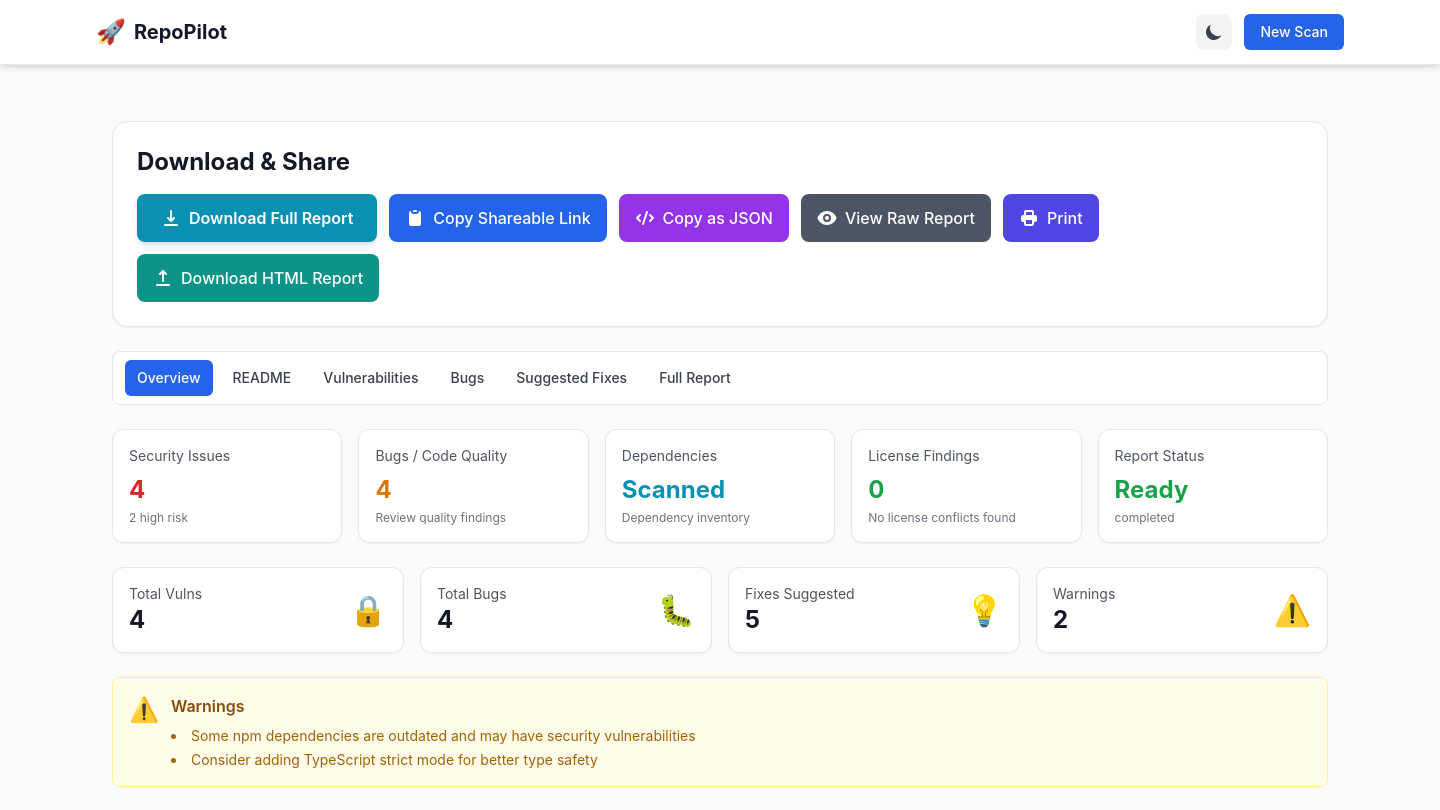
Scenario: Results page › renders the completed scan dashboard
Check: the text "Total Vulns" is shown, box [129,584,202,604]
Step 1. Click the tab "README" → [262, 378], box [220,360,303,396]
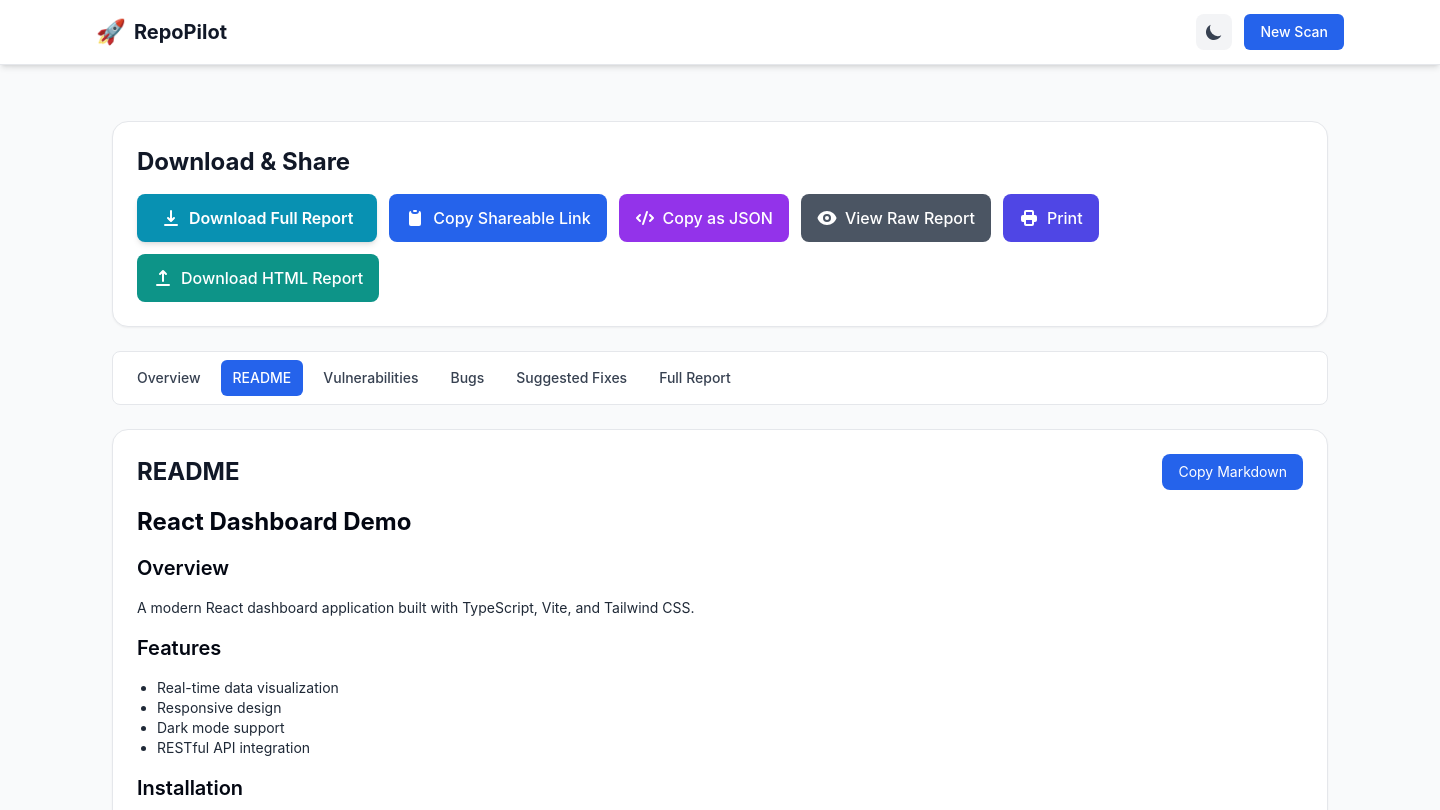
Check: the heading "README" is shown, box [137,456,240,488]
Step 2. Click the tab "Vulnerabilities" → [371, 378], box [311,360,430,396]
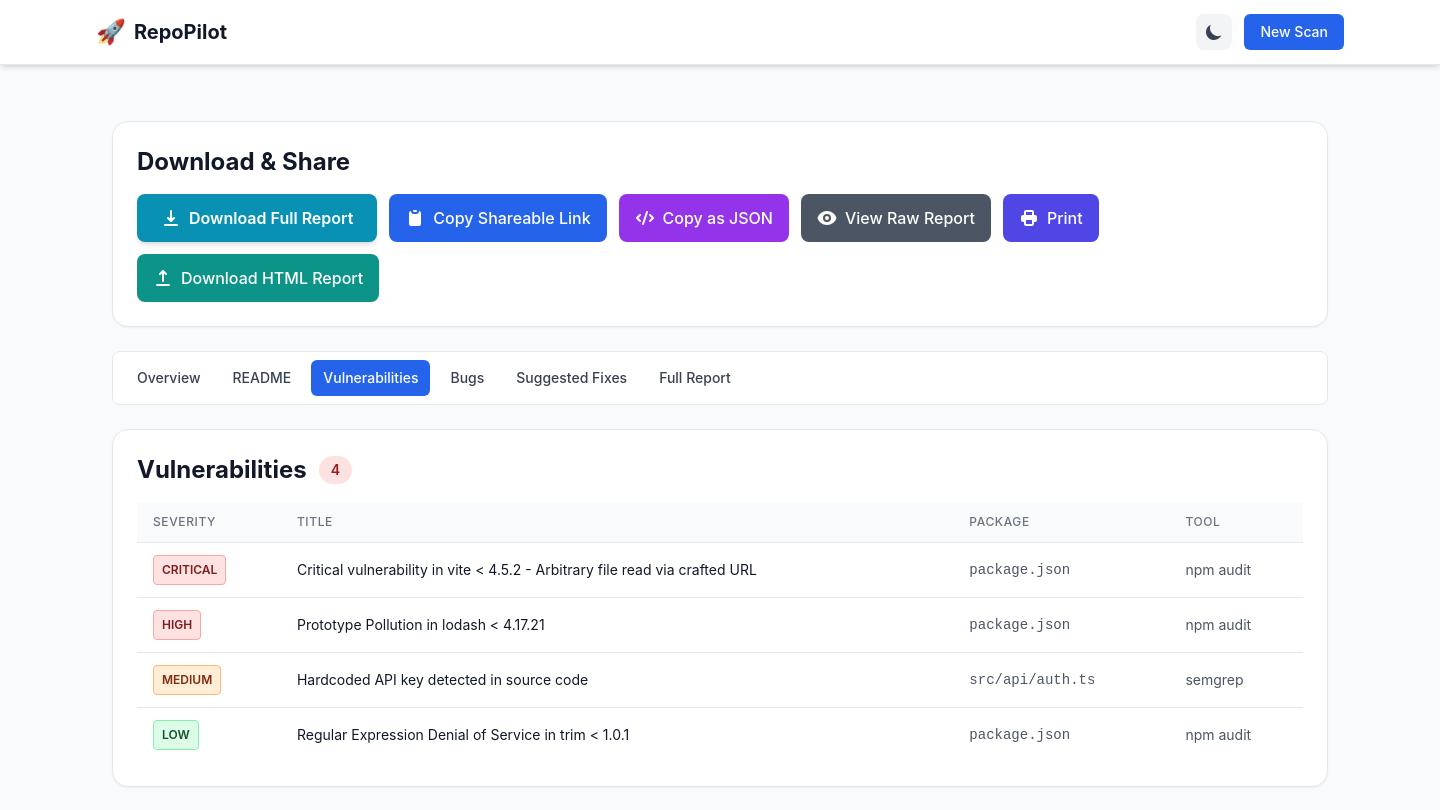
Check: the heading "Vulnerabilities" is shown, box [137,454,307,486]
Step 3. Click the tab "Bugs" → [467, 378], box [438,360,496,396]
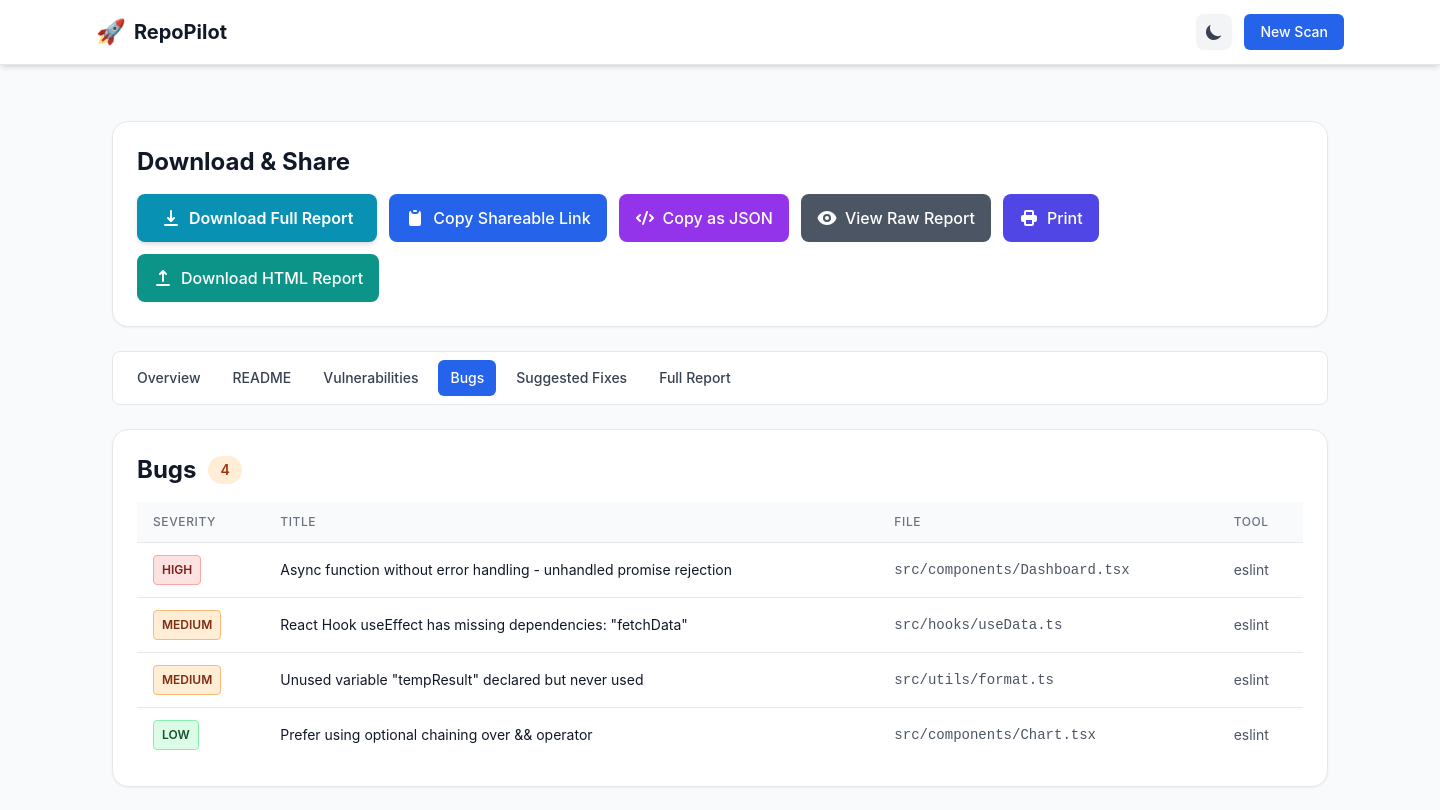
Check: the heading "Bugs" is shown, box [137,454,196,486]
Step 4. Click the tab "Suggested Fixes" → [572, 378], box [504,360,639,396]
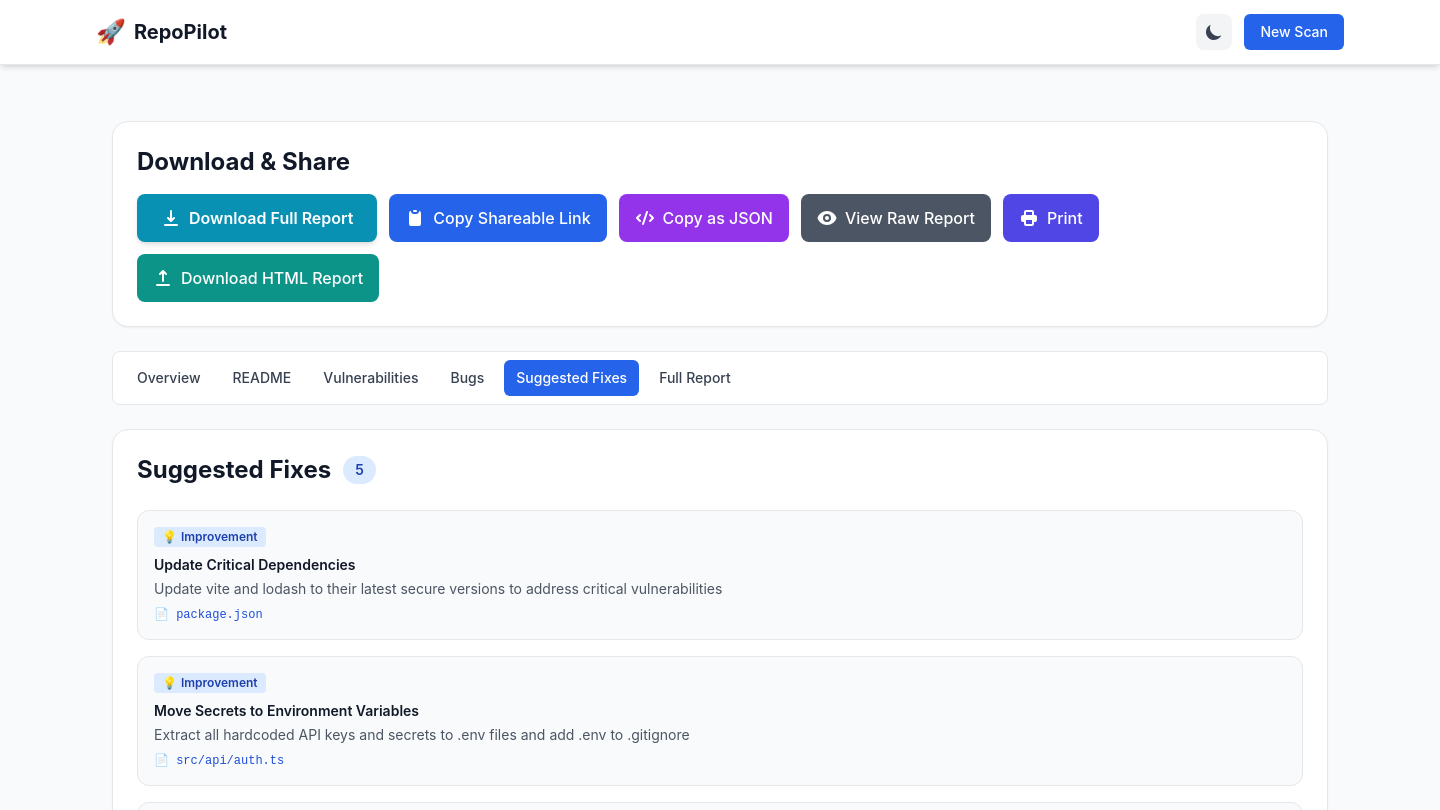
Check: the heading "Suggested Fixes" is shown, box [137,454,331,486]
Step 5. Click the tab "Full Report" → [695, 378], box [647,360,743,396]
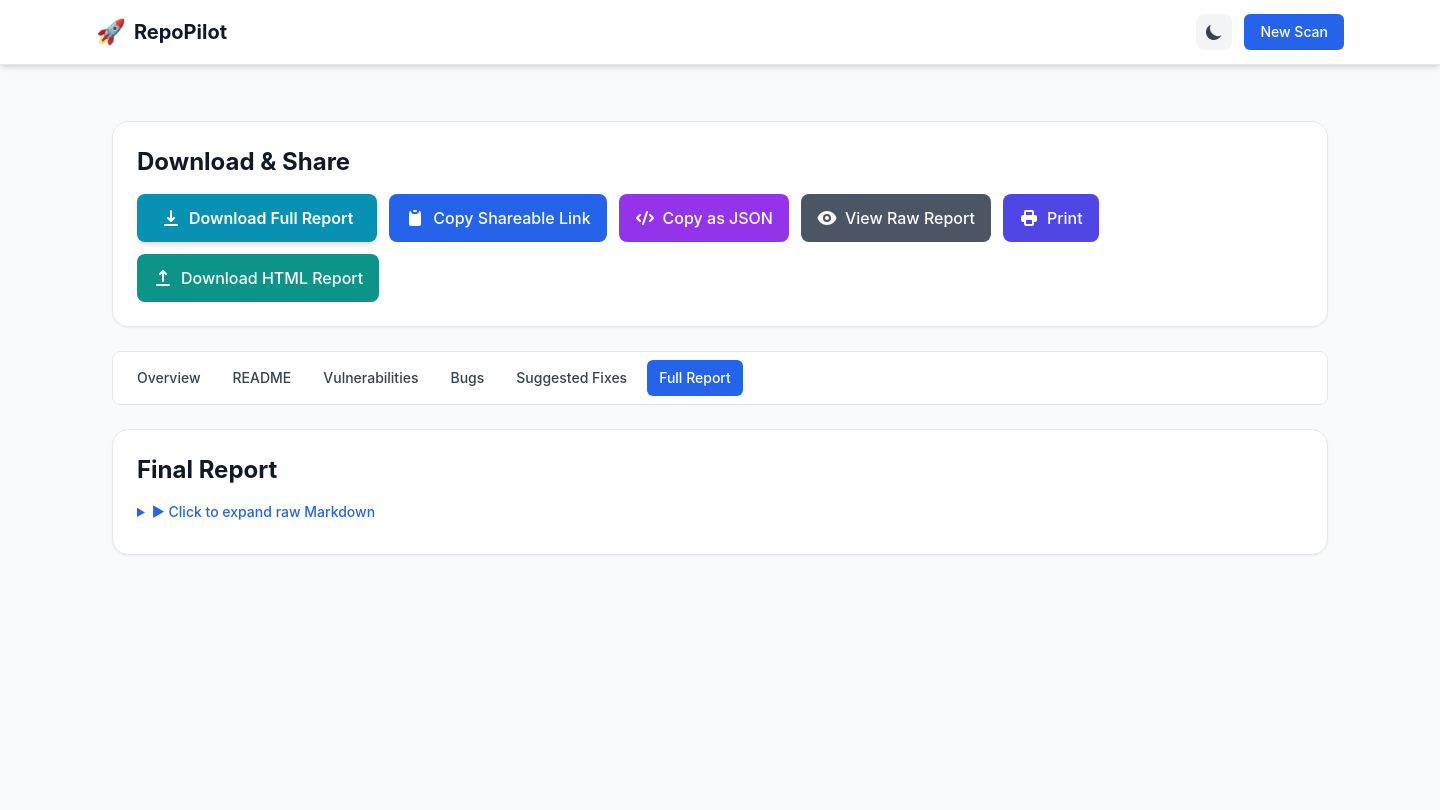
Check: the heading "Final Report" is shown, box [137,455,277,484]
